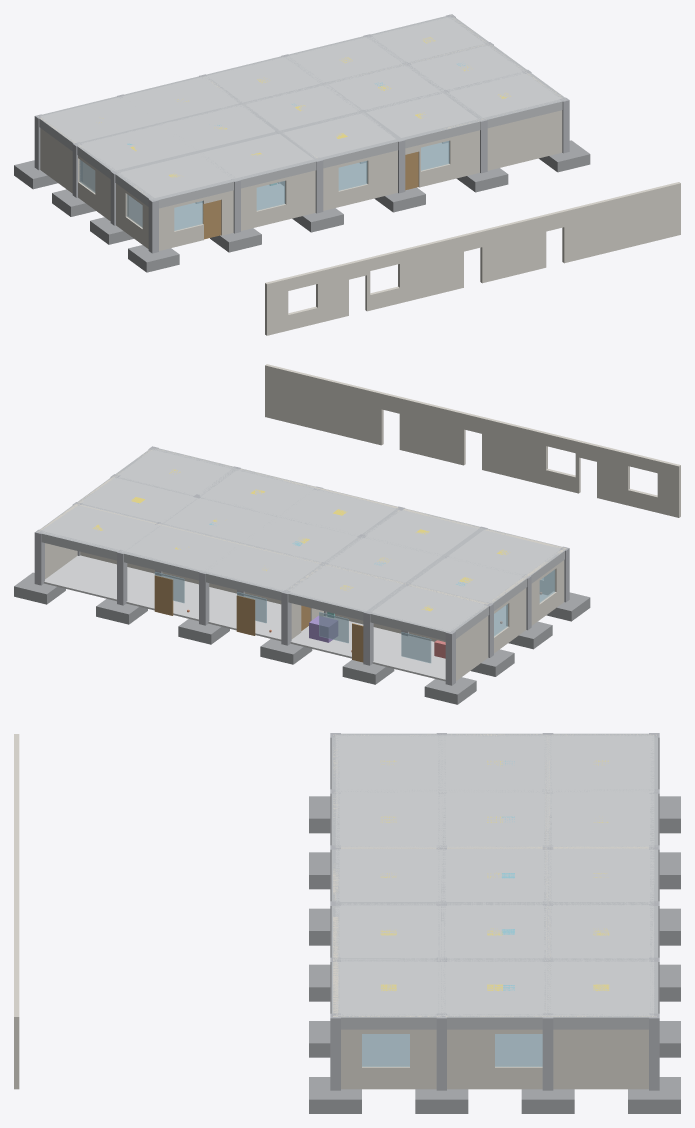
File: rev-b.glb
The picture shows the model from 3 angles, top to bottom: view 1: azimuth 30°, elevation 25°; view 2: azimuth 150°, elevation 25°; view 3: azimuth 270°, elevation 25°; orthographic projection. The views are drawn at different scales.
Visible parts, largest first — view 1: slabs (IfcSlab), walls (IfcWall), beams (IfcBeam), foundations (IfcFooting), columns (IfcColumn), glazing (IfcWindow), floors (IfcSlab), doors (IfcDoor); view 2: slabs (IfcSlab), walls (IfcWall), floors (IfcSlab), beams (IfcBeam), foundations (IfcFooting), columns (IfcColumn), glazing (IfcWindow), doors (IfcDoor), equipment (IfcBuildingElementProxy), lighting (IfcLightFixture); view 3: slabs (IfcSlab), walls (IfcWall), foundations (IfcFooting), beams (IfcBeam), columns (IfcColumn), glazing (IfcWindow), floors (IfcSlab), lighting (IfcLightFixture).
Boxes of the visible parts, box(x1,y1,x2,y2) form: slabs (IfcSlab): box(40, 16, 561, 198); walls (IfcWall): box(38, 15, 680, 335); beams (IfcBeam): box(38, 15, 566, 208); foundations (IfcFooting): box(14, 140, 590, 272); columns (IfcColumn): box(34, 14, 569, 253); glazing (IfcWindow): box(79, 141, 449, 230); floors (IfcSlab): box(129, 143, 448, 229); doors (IfcDoor): box(202, 151, 418, 239); slabs (IfcSlab): box(40, 449, 560, 631); walls (IfcWall): box(37, 364, 680, 680); floors (IfcSlab): box(44, 555, 546, 681); beams (IfcBeam): box(39, 448, 564, 640); foundations (IfcFooting): box(14, 572, 590, 704); columns (IfcColumn): box(34, 446, 569, 685); glazing (IfcWindow): box(154, 569, 554, 663); doors (IfcDoor): box(154, 575, 363, 662); equipment (IfcBuildingElementProxy): box(309, 615, 337, 642); lighting (IfcLightFixture): box(92, 469, 508, 611); slabs (IfcSlab): box(335, 735, 654, 1015); walls (IfcWall): box(14, 734, 656, 1089); foundations (IfcFooting): box(309, 796, 680, 1113); beams (IfcBeam): box(331, 733, 658, 1029); columns (IfcColumn): box(330, 733, 659, 1090); glazing (IfcWindow): box(362, 1034, 542, 1066); floors (IfcSlab): box(362, 1034, 542, 1064); lighting (IfcLightFixture): box(380, 760, 609, 990).
Bounding box in the file's own units: 27 × 3.6 × 25.1.
